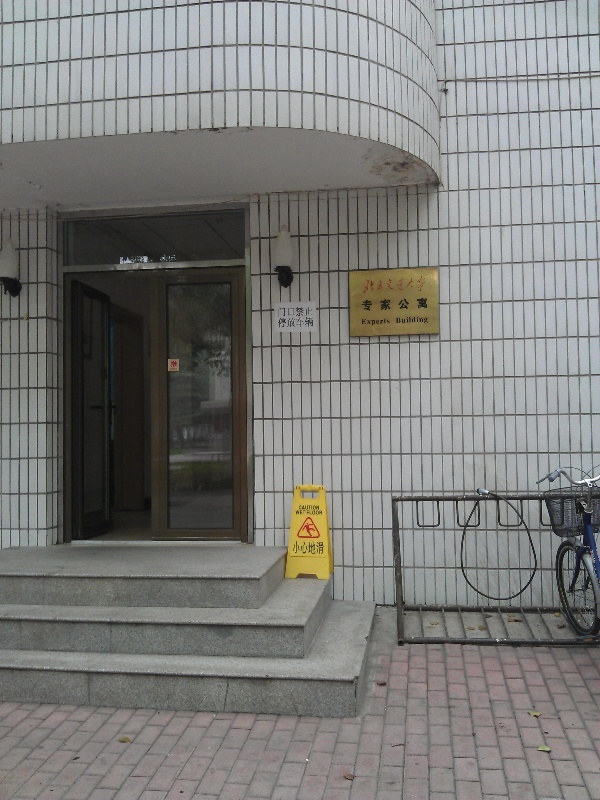text: (369, 276, 384, 294), (385, 276, 400, 294), (401, 276, 416, 294), (369, 298, 384, 312), (385, 298, 400, 312), (401, 298, 416, 312), (305, 541, 320, 555), (289, 307, 304, 318), (289, 317, 304, 328), (417, 276, 426, 294), (417, 298, 428, 312), (294, 541, 304, 555), (369, 318, 384, 327), (401, 317, 416, 325), (278, 317, 288, 328), (279, 307, 288, 318), (305, 317, 314, 328), (417, 317, 429, 325), (363, 276, 368, 294), (305, 307, 313, 318), (362, 298, 368, 312), (305, 505, 320, 510), (321, 541, 325, 555), (362, 318, 368, 327), (385, 318, 391, 327), (307, 511, 320, 515), (171, 361, 176, 368), (296, 511, 304, 515), (396, 317, 400, 325), (299, 505, 304, 510), (171, 368, 176, 371), (321, 511, 323, 515), (305, 511, 306, 515), (177, 368, 178, 371)
